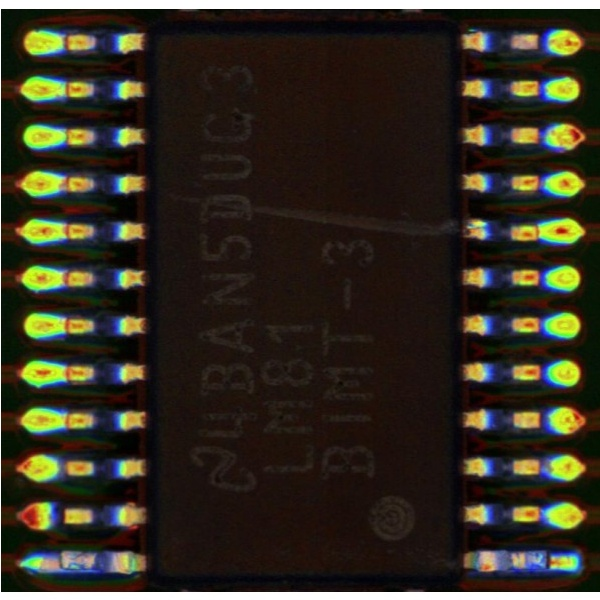Bad_podu: (45, 556, 72, 568), (535, 555, 562, 564)
